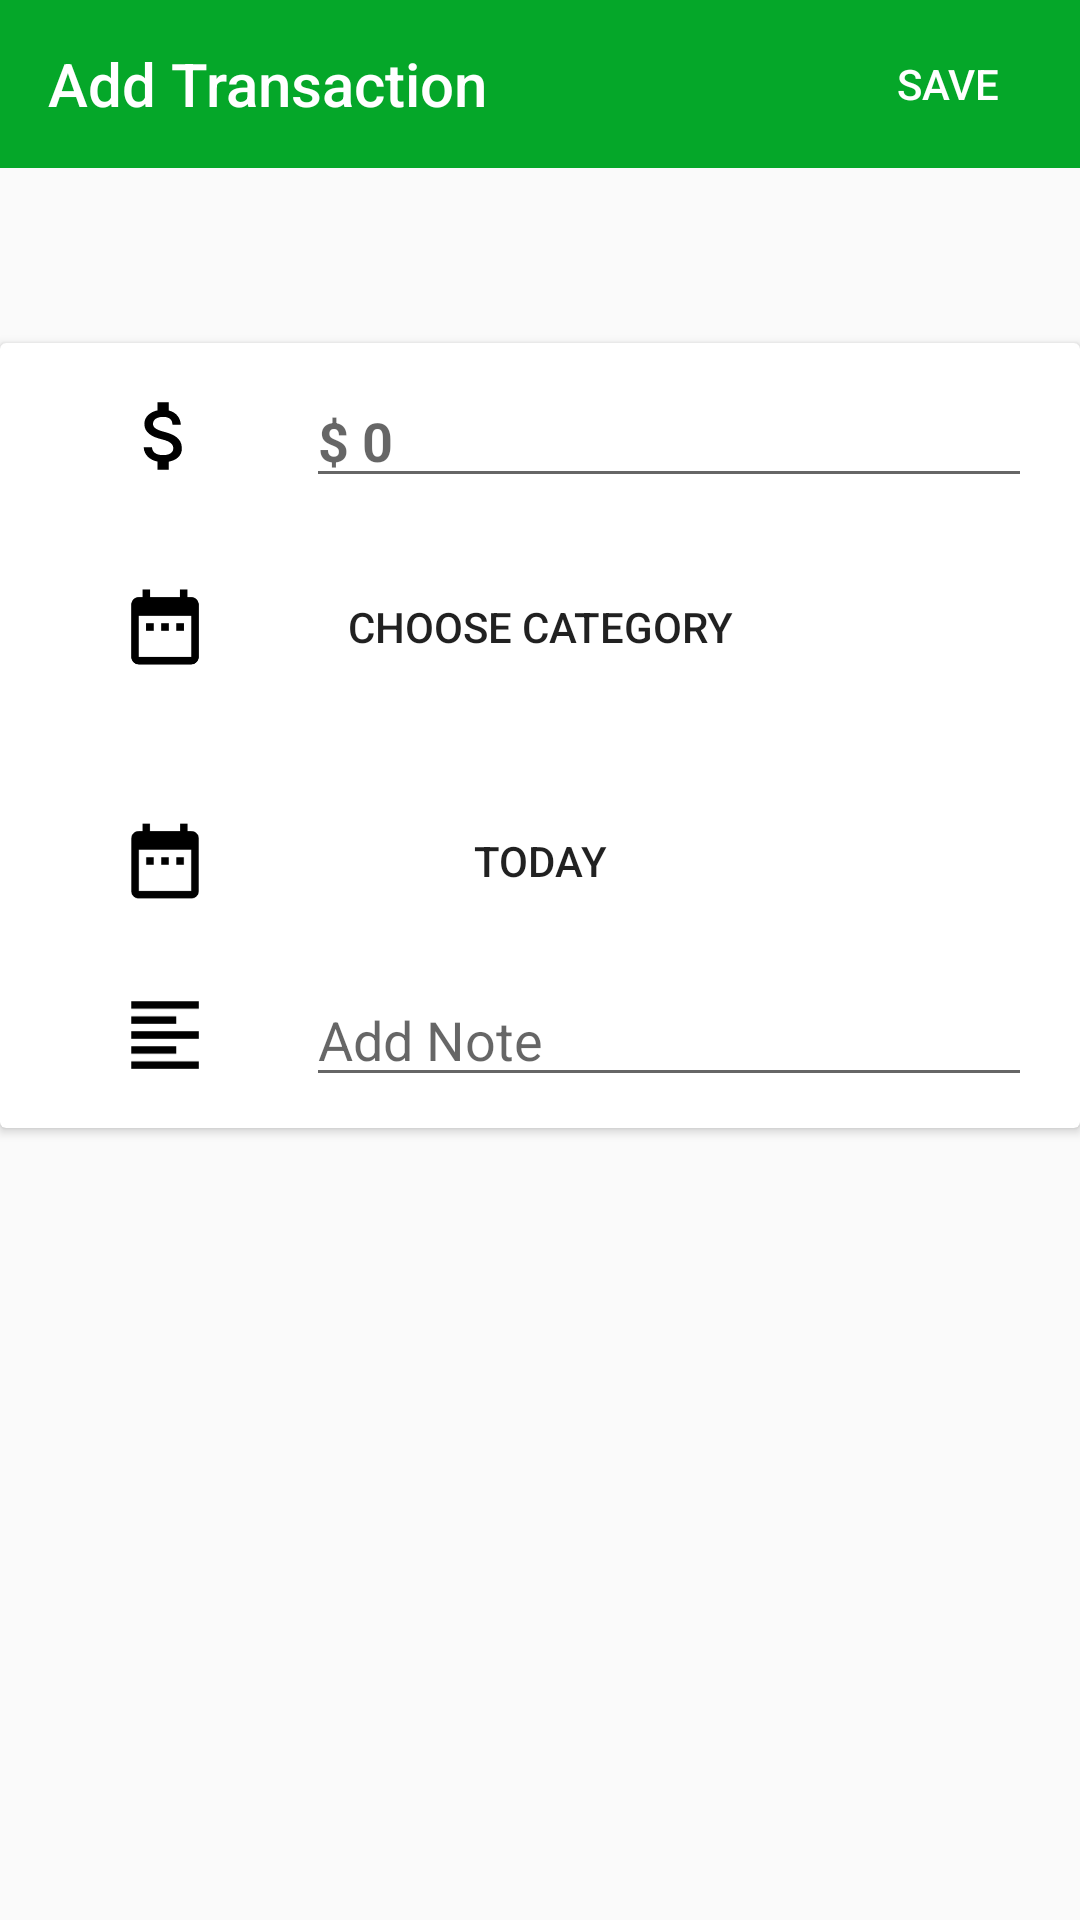

Named icons in this screenshot (1080x1920) and their bounding boxes, [left=x1, top=y1, right=x2, bottom=y2]:
date: [left=131, top=589, right=199, bottom=665], [left=131, top=823, right=199, bottom=899]
money: [left=143, top=402, right=182, bottom=470]
